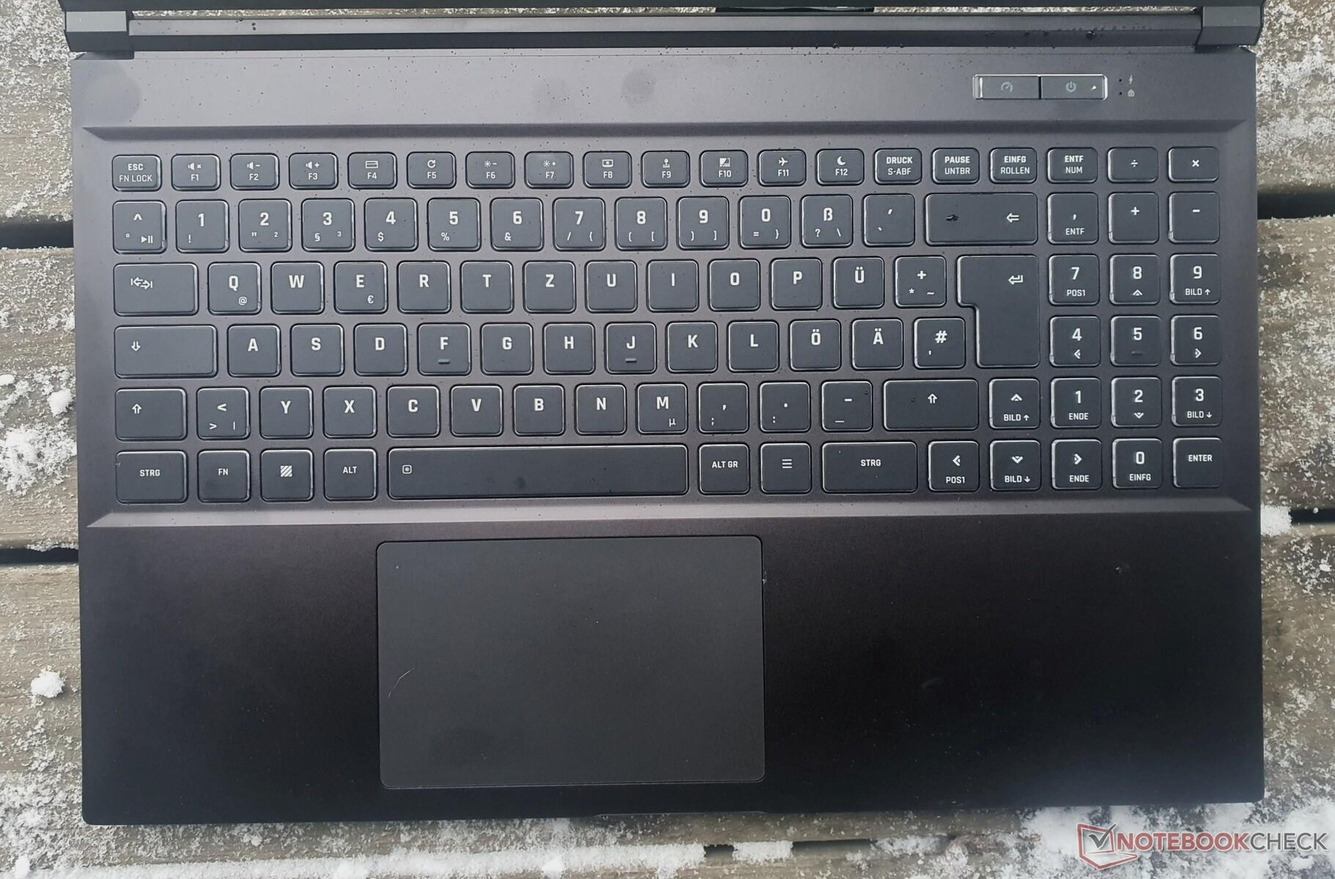0: (735, 190, 790, 245)
1: (171, 194, 226, 248)
2: (234, 193, 289, 248)
3: (297, 193, 352, 248)
4: (360, 192, 415, 247)
5: (424, 192, 478, 247)
6: (487, 192, 544, 247)
7: (550, 193, 603, 248)
8: (610, 191, 665, 247)
9: (673, 191, 728, 246)
a: (223, 319, 278, 374)
accent: (859, 188, 913, 242)
ae: (848, 313, 903, 367)
alt-left: (319, 444, 375, 497)
altgr-right: (695, 439, 749, 492)
b: (509, 379, 563, 432)
c: (382, 381, 438, 434)
caret: (109, 195, 162, 249)
comma: (693, 377, 747, 429)
d: (350, 319, 405, 373)
del: (921, 186, 1035, 240)
e: (330, 256, 385, 310)
enter: (953, 248, 1037, 364)
f: (415, 318, 470, 373)
g: (477, 318, 530, 371)
h: (539, 317, 593, 370)
hash: (909, 312, 964, 365)
i: (644, 255, 697, 307)
j: (602, 316, 654, 371)
k: (663, 316, 715, 369)
keyboard: (90, 119, 1240, 516)
l: (724, 316, 777, 368)
less: (192, 382, 247, 436)
m: (632, 378, 687, 431)
minus: (817, 376, 871, 428)
n: (572, 379, 626, 431)
o: (705, 254, 758, 307)
oe: (785, 314, 839, 368)
p: (767, 253, 820, 306)
plus: (890, 250, 944, 304)
point: (755, 377, 809, 429)
q: (203, 256, 259, 311)
r: (394, 256, 449, 310)
s: (286, 319, 341, 373)
shift-left: (108, 383, 182, 437)
shift-lock: (110, 319, 213, 374)
shift-right: (879, 374, 976, 427)
space: (382, 440, 684, 495)
ss: (796, 190, 850, 243)
strg-left: (108, 446, 185, 500)
strg-right: (817, 437, 917, 490)
t: (458, 256, 511, 309)
tab: (108, 257, 194, 312)
u: (583, 255, 635, 309)
ue: (829, 251, 883, 305)
v: (446, 379, 502, 433)
w: (267, 256, 322, 311)
x: (319, 381, 374, 434)
y: (256, 382, 311, 435)
z: (520, 256, 573, 309)
